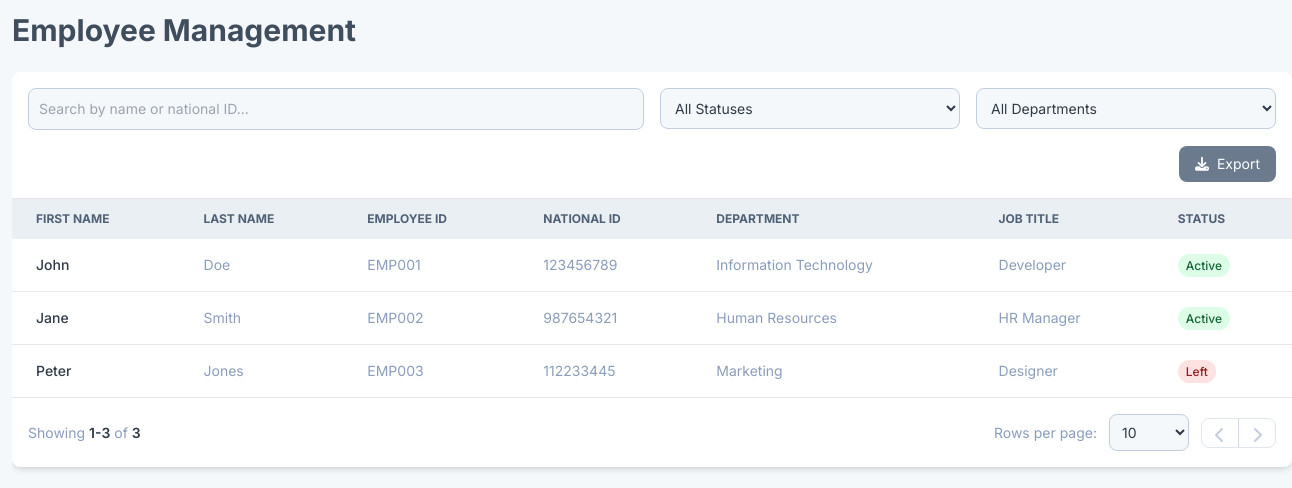
Test: EmployeesPage › filters employees by search term
Expected: the column heading "John" is shown, [12,239,180,292]
Type "Jane" into the field with placeholder "Search by name or national ID..." at (336, 109), box [28,88,644,130]
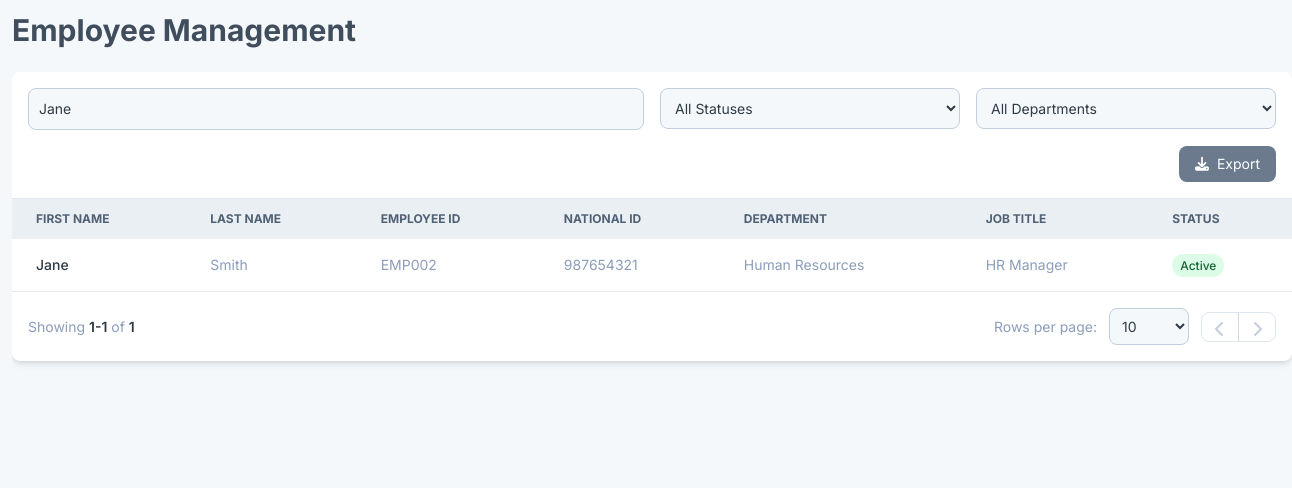
Expected: the column heading "Jane" is shown, [12,239,186,292]
Result: the column heading "John" is gone
Result: the column heading "Peter" is gone
